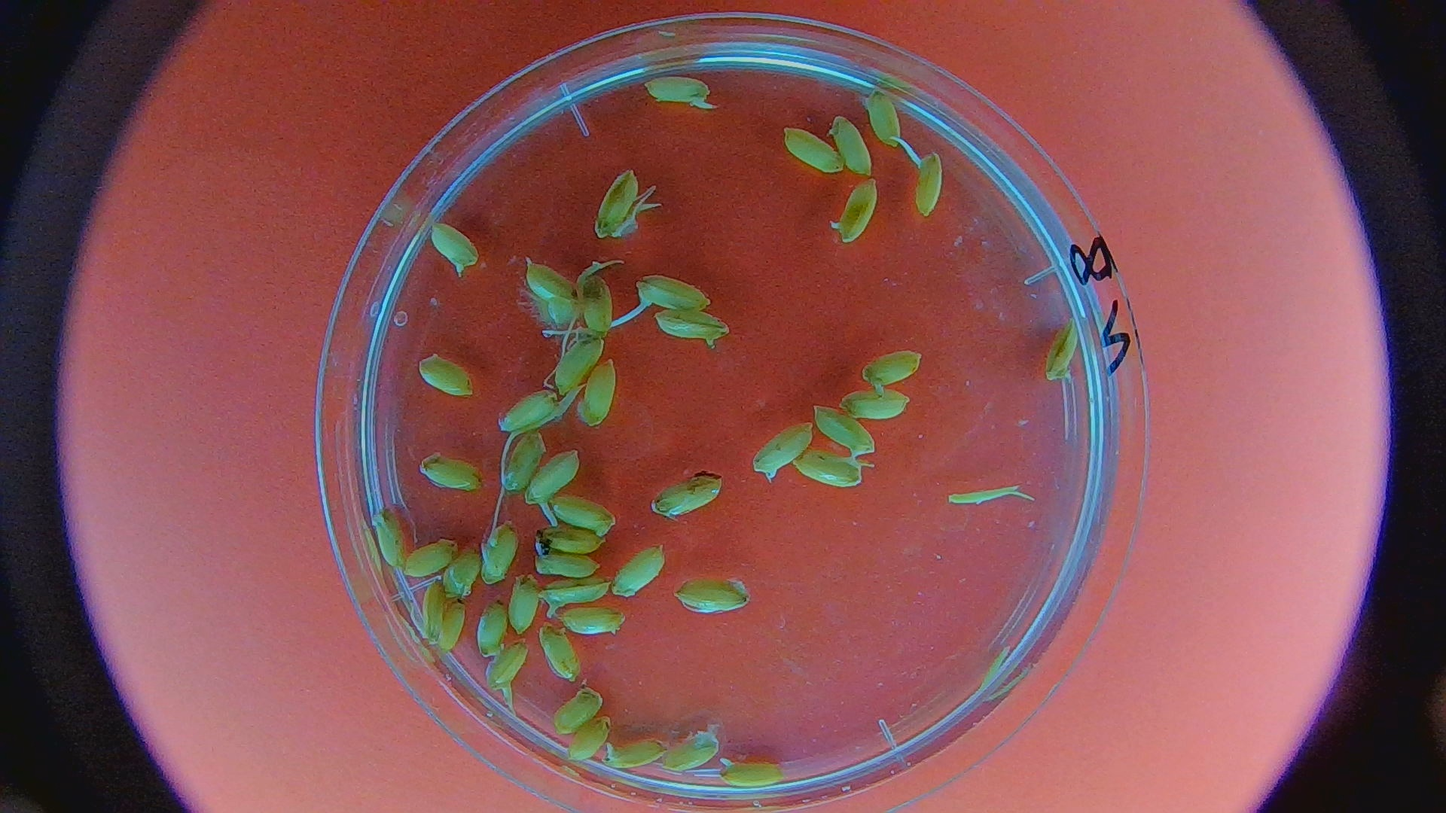no: (749, 417, 816, 485), (650, 471, 724, 522), (812, 404, 877, 459), (779, 123, 847, 175), (676, 574, 752, 618), (825, 114, 877, 178), (609, 544, 667, 598), (553, 335, 606, 393), (427, 218, 479, 276), (418, 449, 488, 492), (417, 349, 477, 399), (660, 726, 728, 770), (860, 349, 923, 396), (369, 504, 413, 571), (535, 622, 584, 682), (792, 452, 869, 490), (654, 307, 733, 344), (1040, 315, 1083, 382), (862, 84, 906, 148), (551, 496, 618, 537), (535, 521, 609, 558), (528, 263, 578, 317), (556, 601, 628, 637), (502, 433, 549, 488), (602, 735, 675, 770), (575, 359, 612, 428), (480, 520, 517, 589), (839, 387, 911, 422), (554, 687, 602, 738), (529, 547, 603, 580), (497, 391, 557, 431), (566, 713, 614, 762), (403, 535, 457, 576), (475, 596, 508, 662), (444, 548, 482, 601), (423, 581, 450, 643), (439, 597, 465, 653)
yes: (525, 447, 581, 515), (593, 168, 641, 238), (831, 175, 881, 242), (631, 276, 713, 315), (481, 638, 532, 695), (645, 73, 719, 111), (713, 754, 787, 790), (909, 149, 946, 218), (575, 267, 609, 332)
